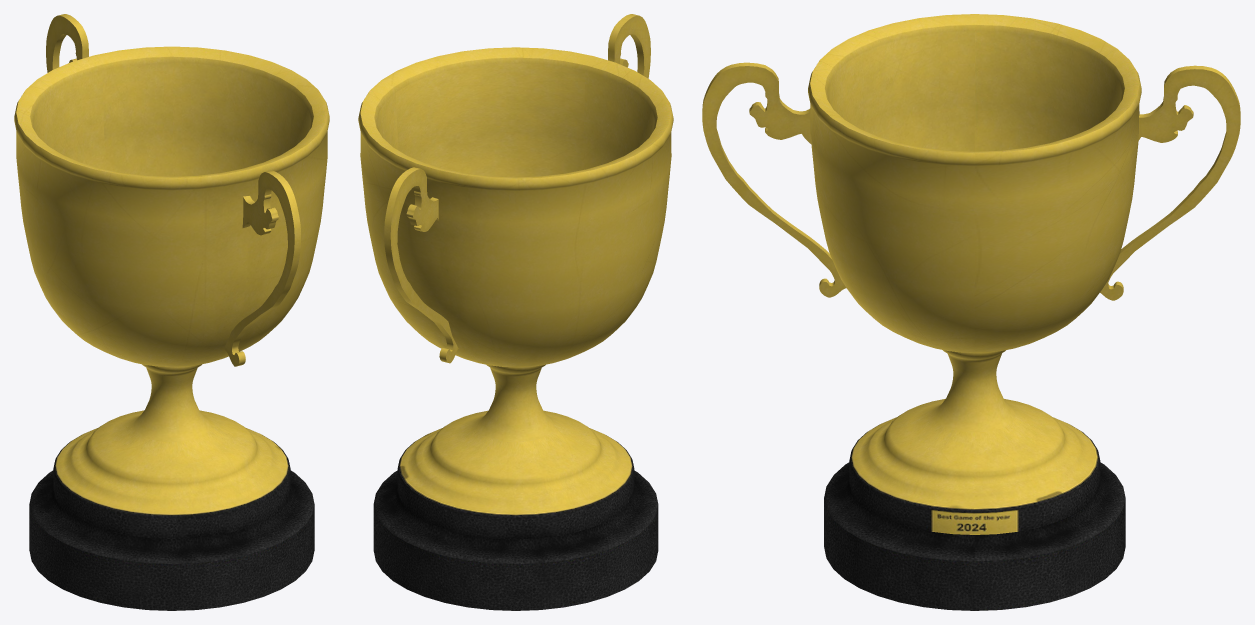
Rendered from golden_trophy.glb.
The picture shows the model from 3 angles, left to right: view 1: azimuth 30°, elevation 25°; view 2: azimuth 150°, elevation 25°; view 3: azimuth 270°, elevation 25°; orthographic projection. The views are drawn at different scales.
Visible parts, largest first — view 1: Trophy, Hangle (×2); view 2: Trophy, Hangle (×2); view 3: Trophy, Hangle (×2).
Part boxes in pixels (bbox=[...]): Trophy: bbox=[14, 46, 329, 610]; Hangle (×2): bbox=[46, 14, 300, 366]; Trophy: bbox=[358, 47, 673, 610]; Hangle (×2): bbox=[384, 14, 650, 363]; Trophy: bbox=[808, 14, 1141, 610]; Hangle (×2): bbox=[702, 62, 1240, 300].
Bounding box in the file's own units: 160 × 254 × 258.
1 material, 1 textured.
